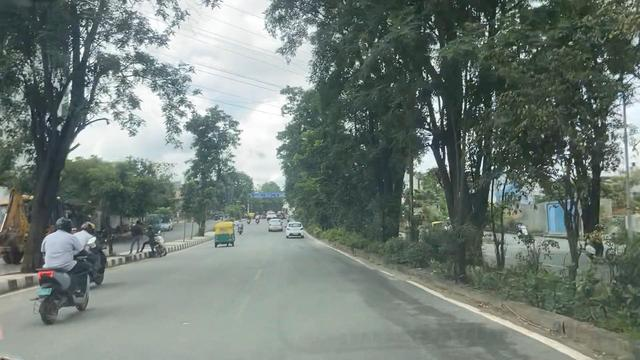LMV: (34, 219, 89, 307), (217, 219, 241, 249), (287, 222, 304, 238), (268, 218, 283, 233)
RoadDamages: (441, 310, 518, 357), (339, 256, 417, 298), (385, 308, 420, 343)
